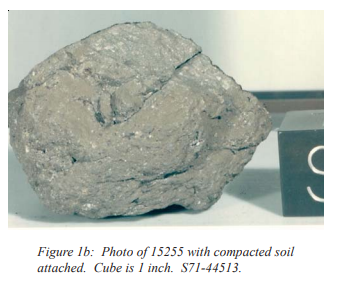Breccia: (13, 18, 275, 222), (70, 30, 200, 206), (72, 86, 228, 165)
